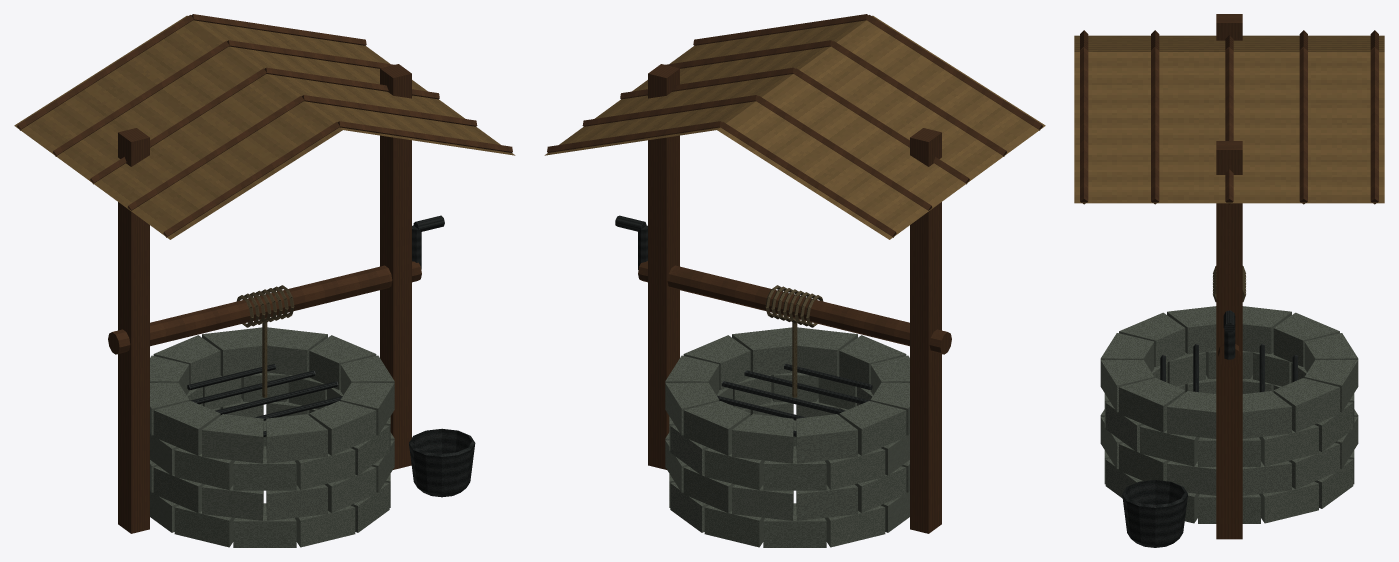
Rendered from level_camp_well.glb.
3 renders of one model, left to right at view 1: azimuth 30°, elevation 25°; view 2: azimuth 150°, elevation 25°; view 3: azimuth 270°, elevation 25°, orthographic.
Visible parts, largest first — view 1: level_camp_well; view 2: level_camp_well; view 3: level_camp_well.
Boxes of the visible parts, <box> form: level_camp_well: <box>14,14,515,547</box>; level_camp_well: <box>544,14,1045,547</box>; level_camp_well: <box>1074,14,1384,547</box>.
Bounding box in the file's own units: 2.44 × 2.83 × 1.88.
5 materials, 5 textured.
